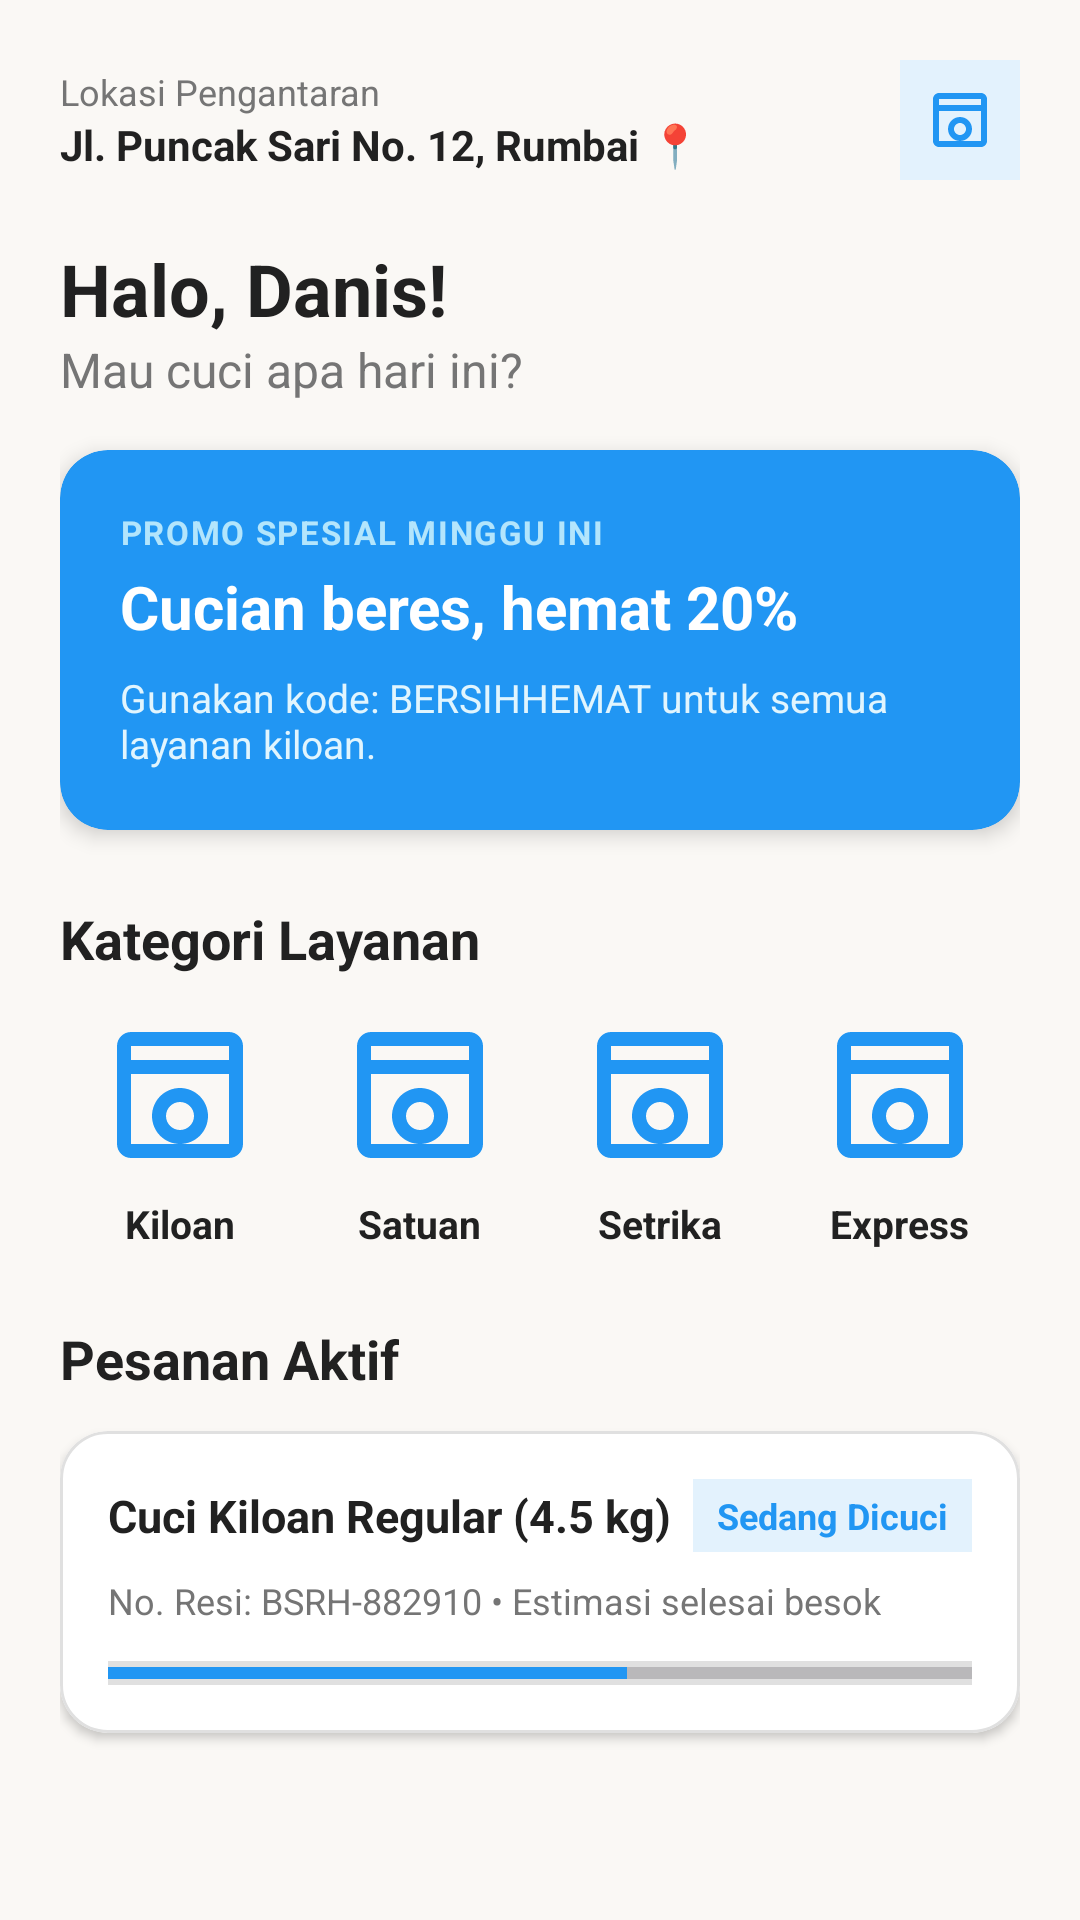

Named icons in this screenshot (1080*1920) and their centers, (x=x, y=y):
washing machine: (x=180, y=1095), (x=420, y=1095), (x=660, y=1095), (x=900, y=1095)
